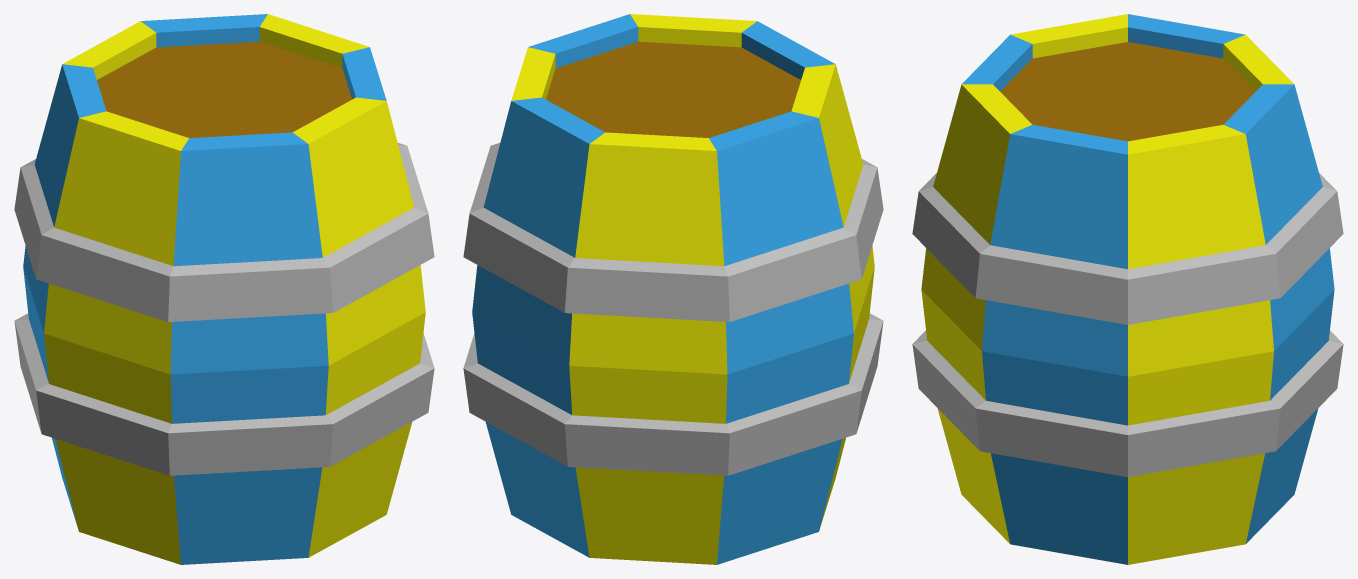
File: Barril.fbx
The picture shows the model from 3 angles, left to right: view 1: azimuth 30°, elevation 25°; view 2: azimuth 150°, elevation 25°; view 3: azimuth 270°, elevation 25°; orthographic projection.
Visible parts, largest first — view 1: Cylinder.046; view 2: Cylinder.046; view 3: Cylinder.046.
Part boxes in pixels (x1,y1,x2,y2): Cylinder.046: (14, 14, 434, 564); Cylinder.046: (463, 14, 883, 564); Cylinder.046: (912, 14, 1343, 564).
Size of the model in its own units: 404 by 424 by 404.
1 material, 1 textured.
